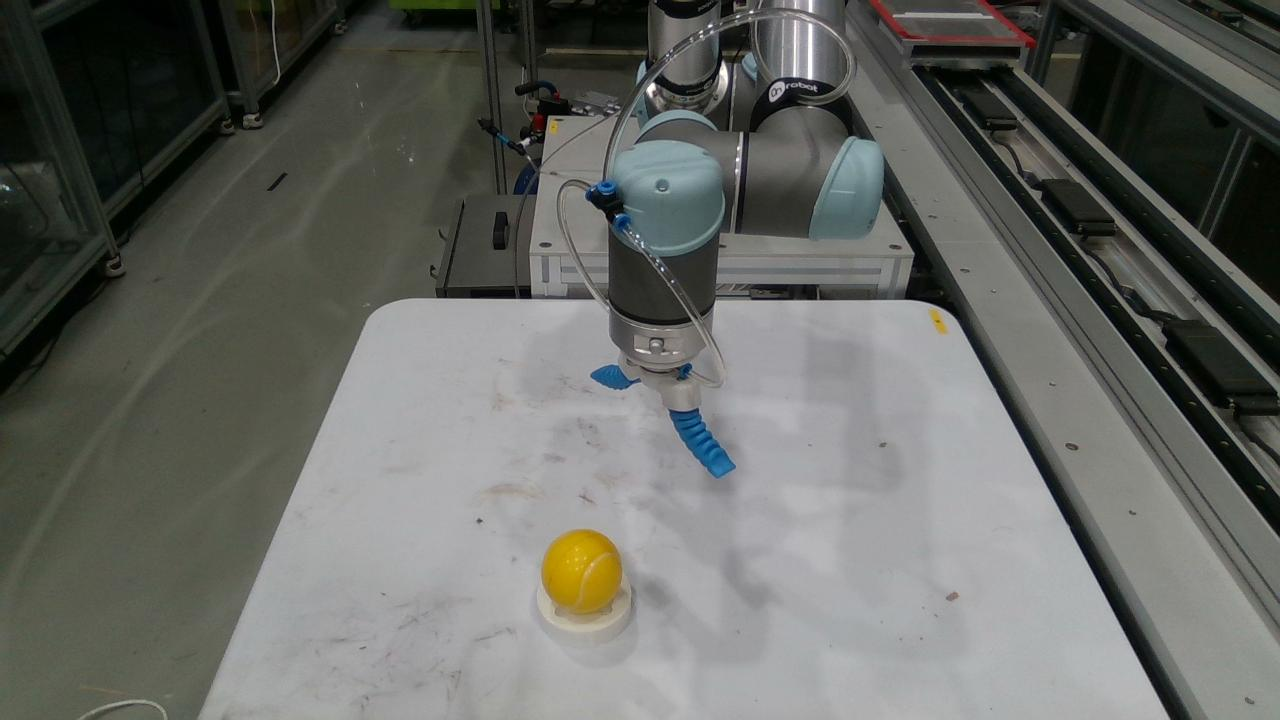UR5: (600, 0, 884, 408)
gripper_left: (591, 365, 639, 389)
gripper_right: (674, 411, 730, 476)
target: (535, 576, 634, 649), (544, 530, 620, 611), (567, 650, 623, 664)
